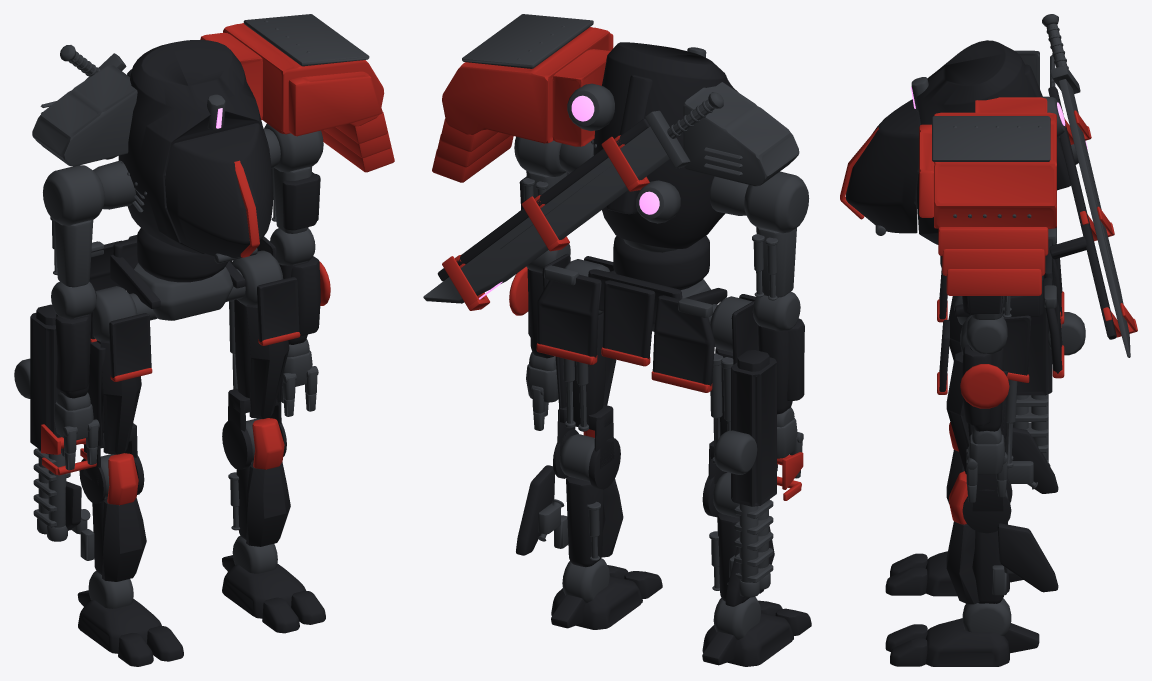
File: titan_l2_v3.fbx
The picture shows the model from 3 angles, left to right: view 1: azimuth 30°, elevation 25°; view 2: azimuth 150°, elevation 25°; view 3: azimuth 270°, elevation 25°; orthographic projection. The views are drawn at different scales.
Visible parts, largest first — view 1: L2_Torso_Upper, L2_Hatch, L2_Pauldron_L, L2_Shoulder_Cap_R, L2_Pauldron_Trim_L, L2_Pelvis, L2_Shotgun_Body, L2_Shin_Plate_L, L2_Shin_Plate_R, L2_UpperArm_Hub_R, L2_Thigh_Plate_L, L2_Waist (+40 smaller); view 2: L2_Skirt_Back, L2_Pauldron_L, L2_Torso_Upper, L2_Sword_Blade, L2_Shoulder_Cap_R, L2_Shotgun_Body, L2_Pauldron_Trim_L, L2_Waist, L2_UpperArm_Hub_R, L2_Pauldron_Lames_L, L2_Rack_Clamps, L2_Thigh_Clevis_L (+46 smaller); view 3: L2_Pauldron_L, L2_Pauldron_Lames_L, L2_Hatch, L2_Torso_Upper, L2_Pauldron_Trim_L, L2_Foot_L, L2_Sword_Blade, L2_Rack, L2_Calf_Blade_L, L2_Thigh_Clevis_L, L2_Shotgun_Body, L2_Shin_Plate_L (+31 smaller).
Boxes of the visible parts, x1,y1,x2,y2 form: L2_Torso_Upper: (118,40,269,253); L2_Hatch: (165,123,272,257); L2_Pauldron_L: (200,23,384,136); L2_Shoulder_Cap_R: (32,65,137,166); L2_Pauldron_Trim_L: (243,14,369,66); L2_Pelvis: (130,263,245,320); L2_Shotgun_Body: (30,304,61,454); L2_Shin_Plate_L: (246,462,290,546); L2_Shin_Plate_R: (102,497,146,581); L2_UpperArm_Hub_R: (43,165,104,225); L2_Thigh_Plate_L: (246,304,289,418); L2_Waist: (137,228,228,282); L2_Skirt_Back: (537,274,715,386); L2_Pauldron_L: (442,27,613,146); L2_Torso_Upper: (593,42,736,248); L2_Sword_Blade: (423,126,669,303); L2_Shoulder_Cap_R: (683,82,799,186); L2_Shotgun_Body: (731,350,776,506); L2_Pauldron_Trim_L: (462,14,593,68); L2_Waist: (613,235,709,289); L2_UpperArm_Hub_R: (744,171,809,233); L2_Pauldron_Lames_L: (432,118,513,182); L2_Rack_Clamps: (442,135,649,310); L2_Thigh_Clevis_L: (553,405,620,489); L2_Pauldron_L: (919,97,1056,228); L2_Pauldron_Lames_L: (938,227,1048,295); L2_Hatch: (846,99,920,233); L2_Torso_Upper: (917,40,1036,244); L2_Pauldron_Trim_L: (932,116,1050,161); L2_Foot_L: (926,618,1009,666); L2_Sword_Blade: (1059,79,1130,357); L2_Rack: (1048,86,1116,339); L2_Calf_Blade_L: (997,523,1058,592); L2_Thigh_Clevis_L: (962,474,1012,533); L2_Shotgun_Body: (1016,275,1052,395); L2_Shin_Plate_L: (946,521,979,604).
Size of the model in its own units: 3.54 by 5.87 by 2.81.
